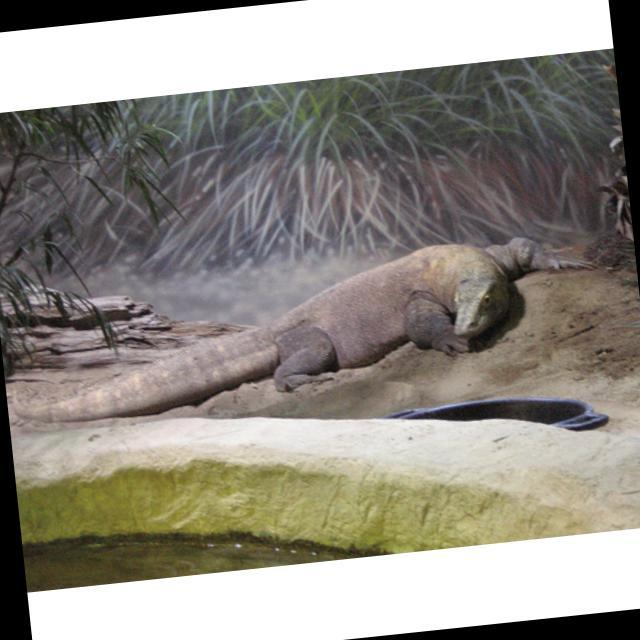KomodoDragon: (1, 225, 609, 426)
